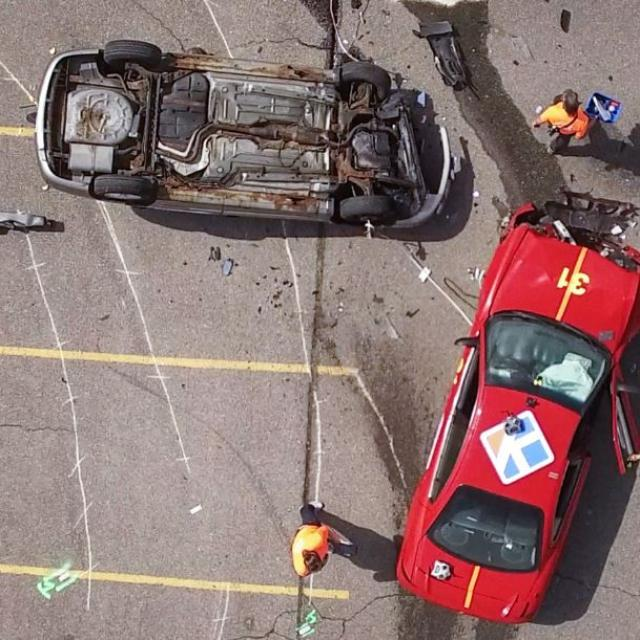traffic_incident: (383, 199, 637, 616), (23, 51, 469, 232)
